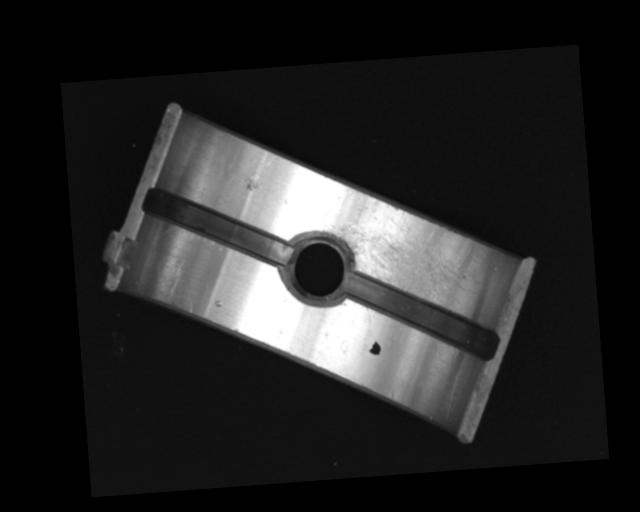blot: (367, 339, 382, 357)
bruise: (244, 175, 259, 193), (213, 298, 223, 308)
gap: (344, 261, 500, 369), (140, 177, 294, 274)
hole: (282, 227, 355, 309)
nick: (160, 258, 187, 304)
scratch: (320, 181, 470, 316)
